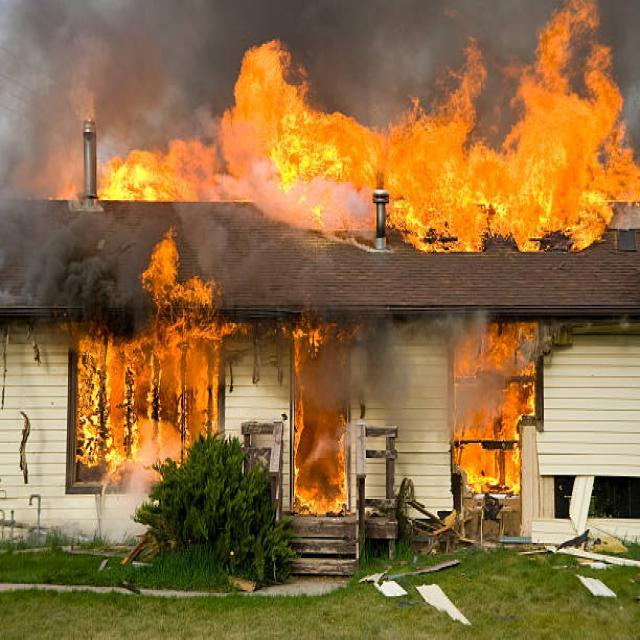Fire: (235, 5, 640, 244), (69, 305, 203, 484), (454, 316, 524, 516), (300, 320, 358, 516), (104, 122, 206, 218)
Smoke: (8, 182, 514, 387), (3, 13, 640, 122)
